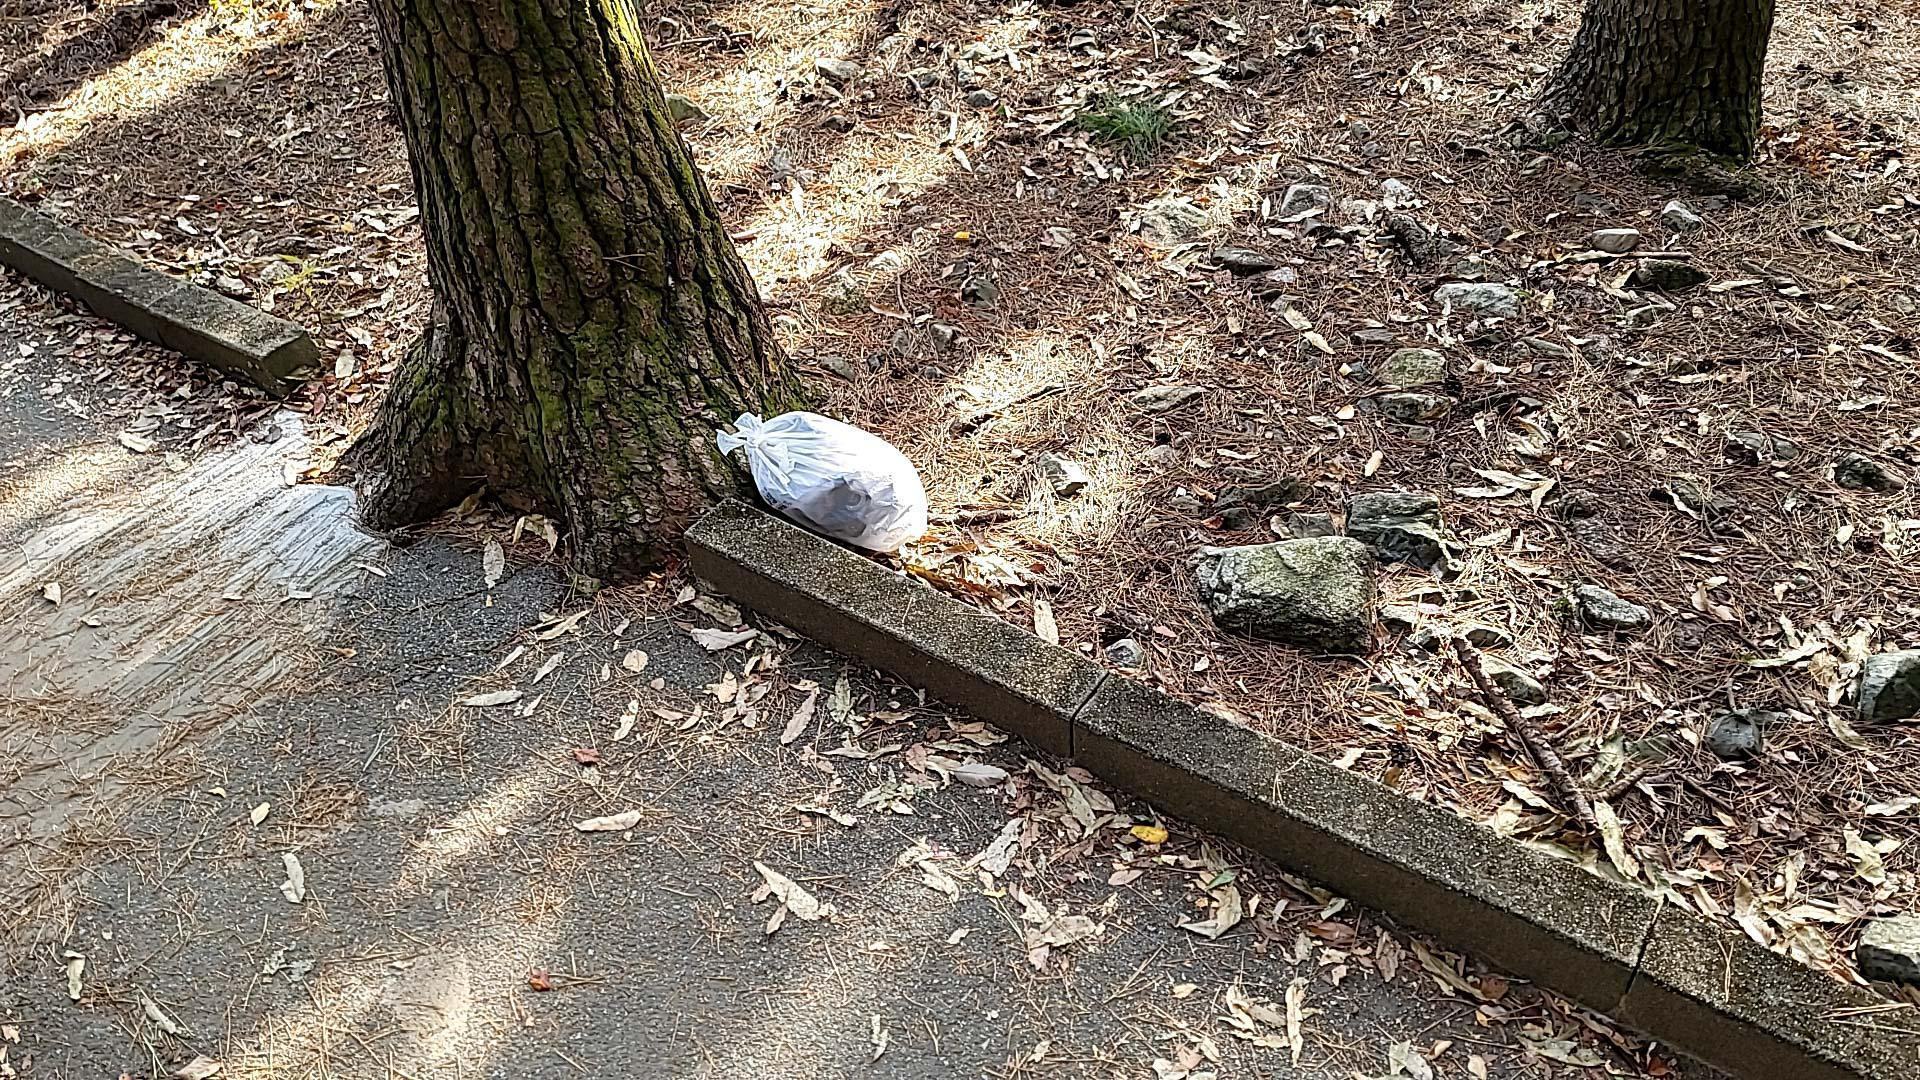white_bag: (709, 404, 940, 564)
